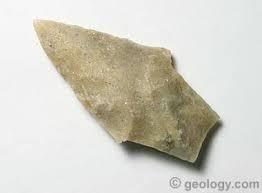obstacle: (33, 19, 219, 162)
